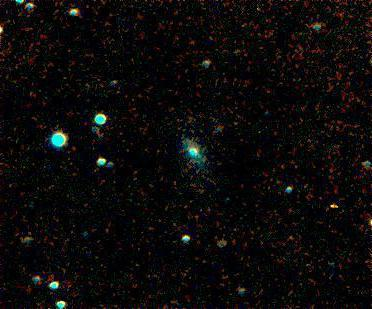star: (319, 192, 349, 222)
